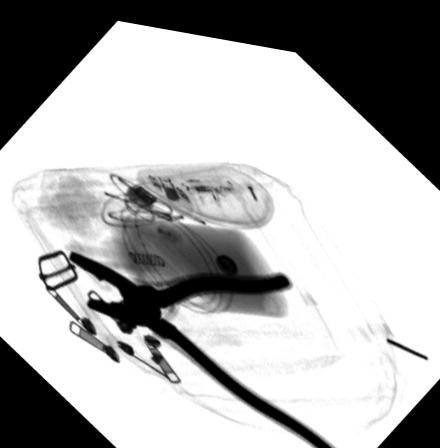Pliers: (66, 245, 346, 448)
